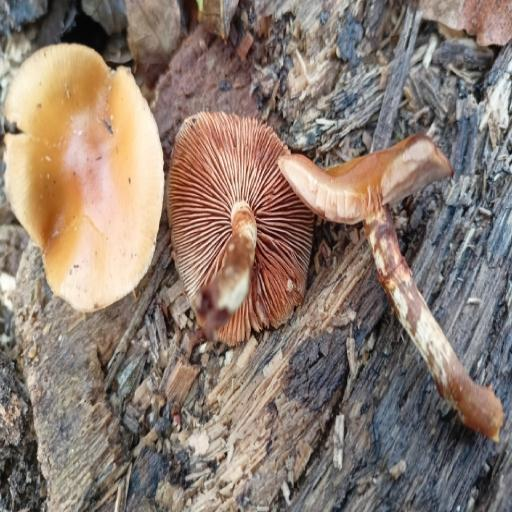Funeral Bell: (272, 79, 512, 456), (0, 15, 217, 327), (158, 109, 320, 352)
